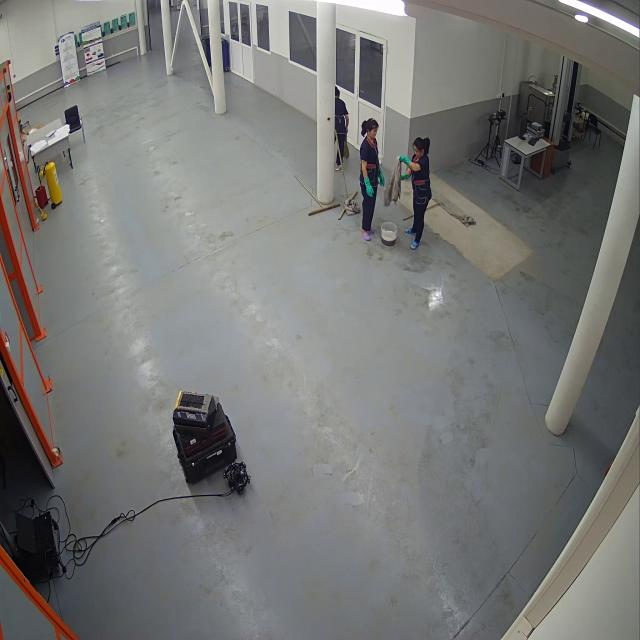NO-Hardhat: (360, 113, 380, 131), (413, 134, 431, 152), (337, 85, 342, 95)
Person: (394, 134, 434, 252), (358, 118, 387, 241), (336, 81, 352, 172)
